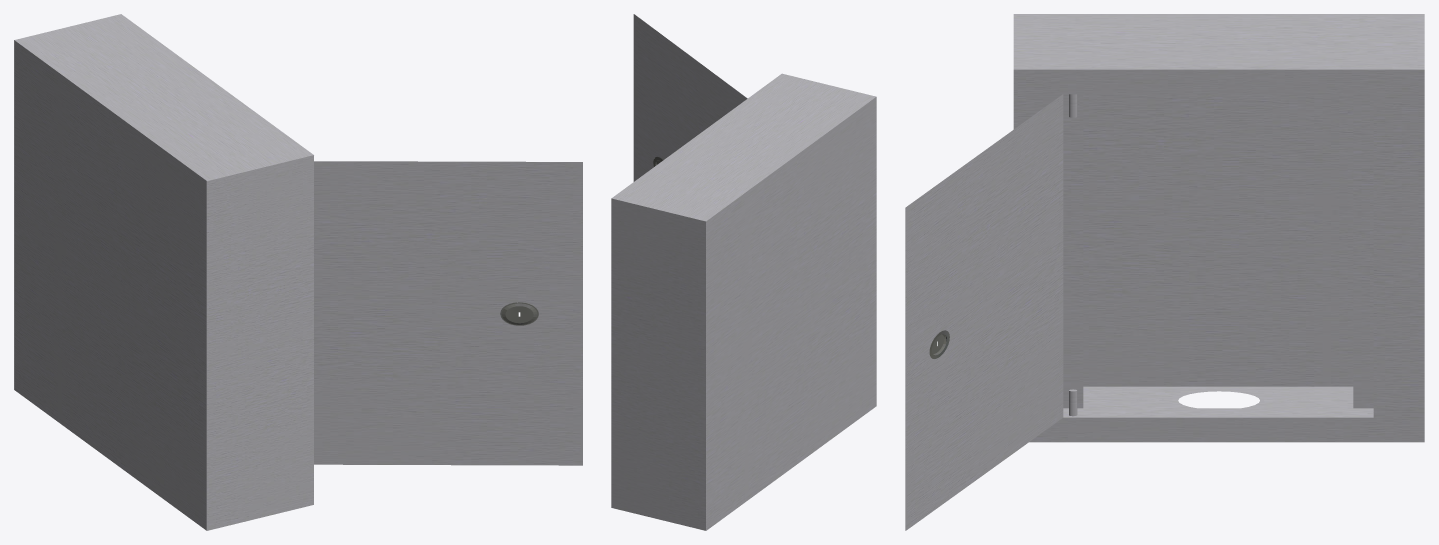
The model's file is DBEmptyShell1.fbx.
3 renders of one model, left to right at view 1: azimuth 30°, elevation 25°; view 2: azimuth 150°, elevation 25°; view 3: azimuth 270°, elevation 25°, orthographic. The views are drawn at different scales.
Parts seen in each view (by area): view 1: DBSHELL1_NOBE, DBSHELL1.055, DBSHELL1; view 2: DBSHELL1.055, DBSHELL1, DBSHELL1_DOOR.001; view 3: DBSHELL1, DBSHELL1_DOOR.001, DBSHELL1.053, DBSHELL1.058, DBSHELL1.057, DBSHELL1_NOBE.
Boxes of the visible parts, x1,y1,x2,y2 form: DBSHELL1_NOBE: (314,161,582,465); DBSHELL1.055: (14,40,206,530); DBSHELL1: (14,14,313,530); DBSHELL1.055: (706,97,876,530); DBSHELL1: (611,73,876,530); DBSHELL1_DOOR.001: (633,14,747,181); DBSHELL1: (1013,14,1424,442); DBSHELL1_DOOR.001: (905,94,1063,530); DBSHELL1.053: (1353,94,1373,408); DBSHELL1.058: (1063,94,1083,408); DBSHELL1.057: (1083,386,1353,408); DBSHELL1_NOBE: (905,94,1062,530).
Bounding box in the file's own units: 82.36 × 107 × 84.6.
3 materials, 3 textured.
